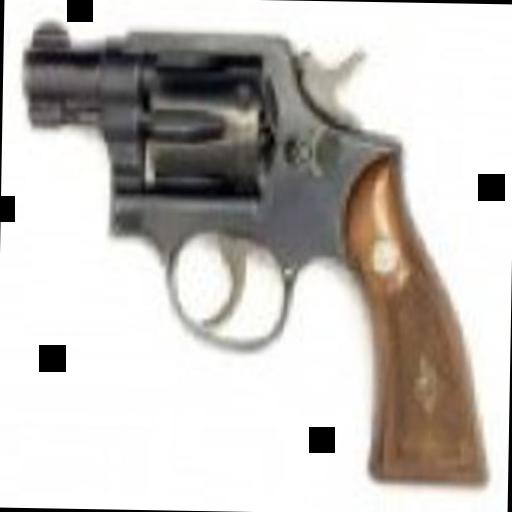Handgun: (17, 24, 495, 485)
